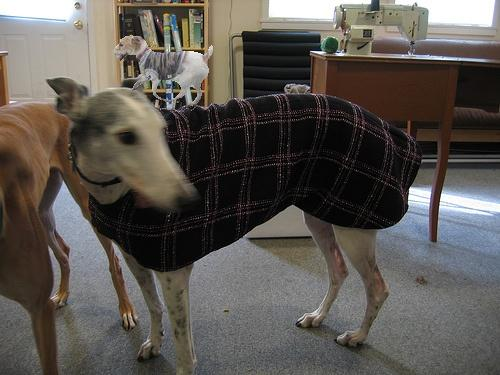tampered: (115, 36, 213, 106)
